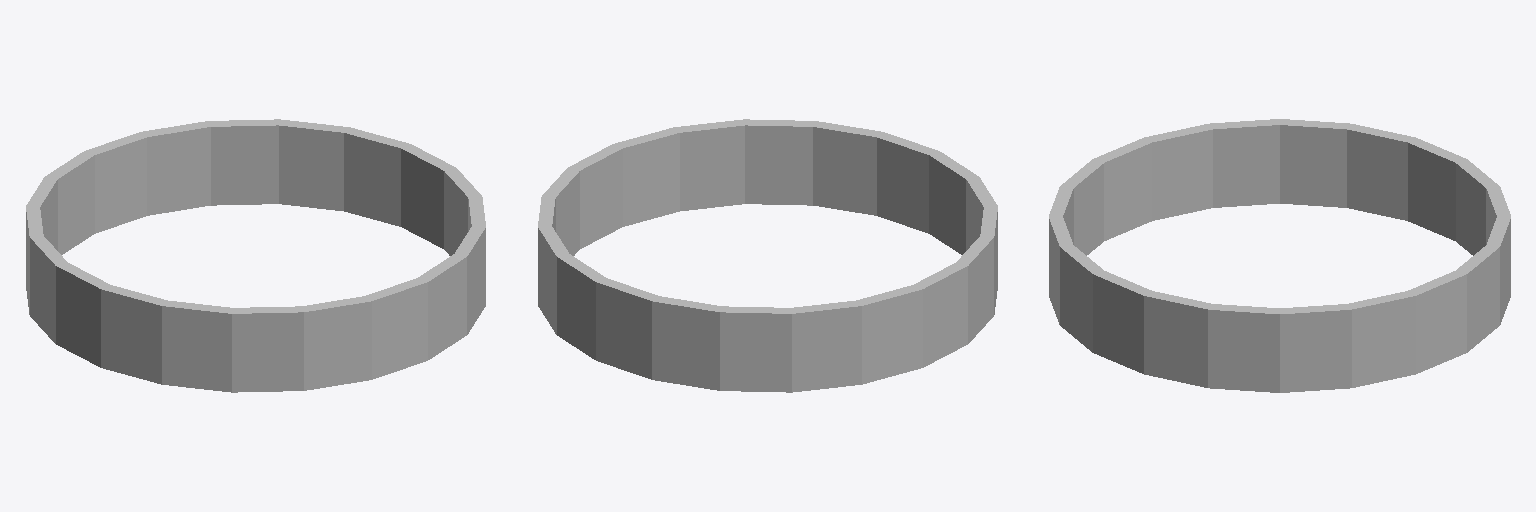
The model's file is LH_Bottom.obj.
The picture shows the model from 3 angles: view 1: azimuth 30°, elevation 25°; view 2: azimuth 150°, elevation 25°; view 3: azimuth 270°, elevation 25°; orthographic projection.
Visible parts, largest first — view 1: LH_Bottom; view 2: LH_Bottom; view 3: LH_Bottom.
Part boxes in pixels (left/top/right/bottom): LH_Bottom: left=26, top=119, right=485, bottom=392; LH_Bottom: left=538, top=119, right=997, bottom=392; LH_Bottom: left=1049, top=119, right=1510, bottom=392.
Size of the model in its own units: 16 by 3 by 16.